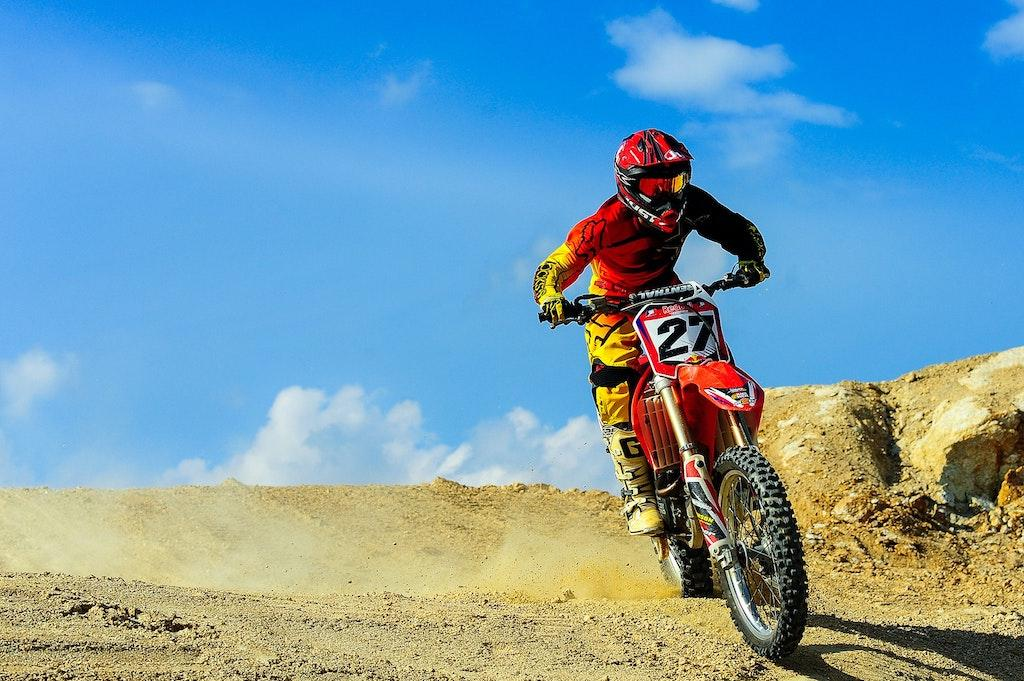helmet: (612, 127, 697, 236)
